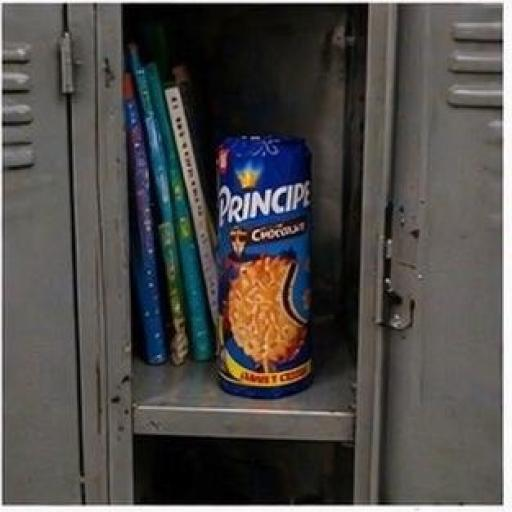prince: (143, 78, 414, 456)
